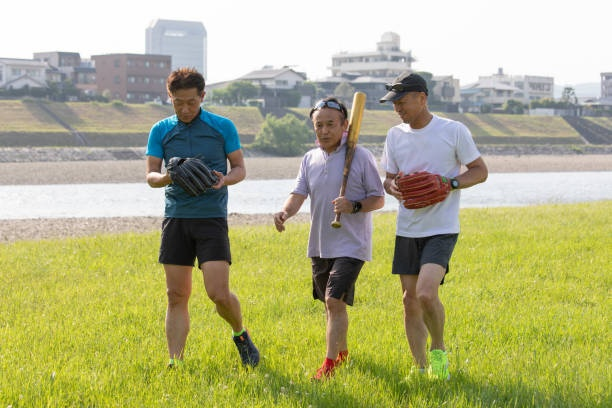bita: (331, 93, 370, 226)
